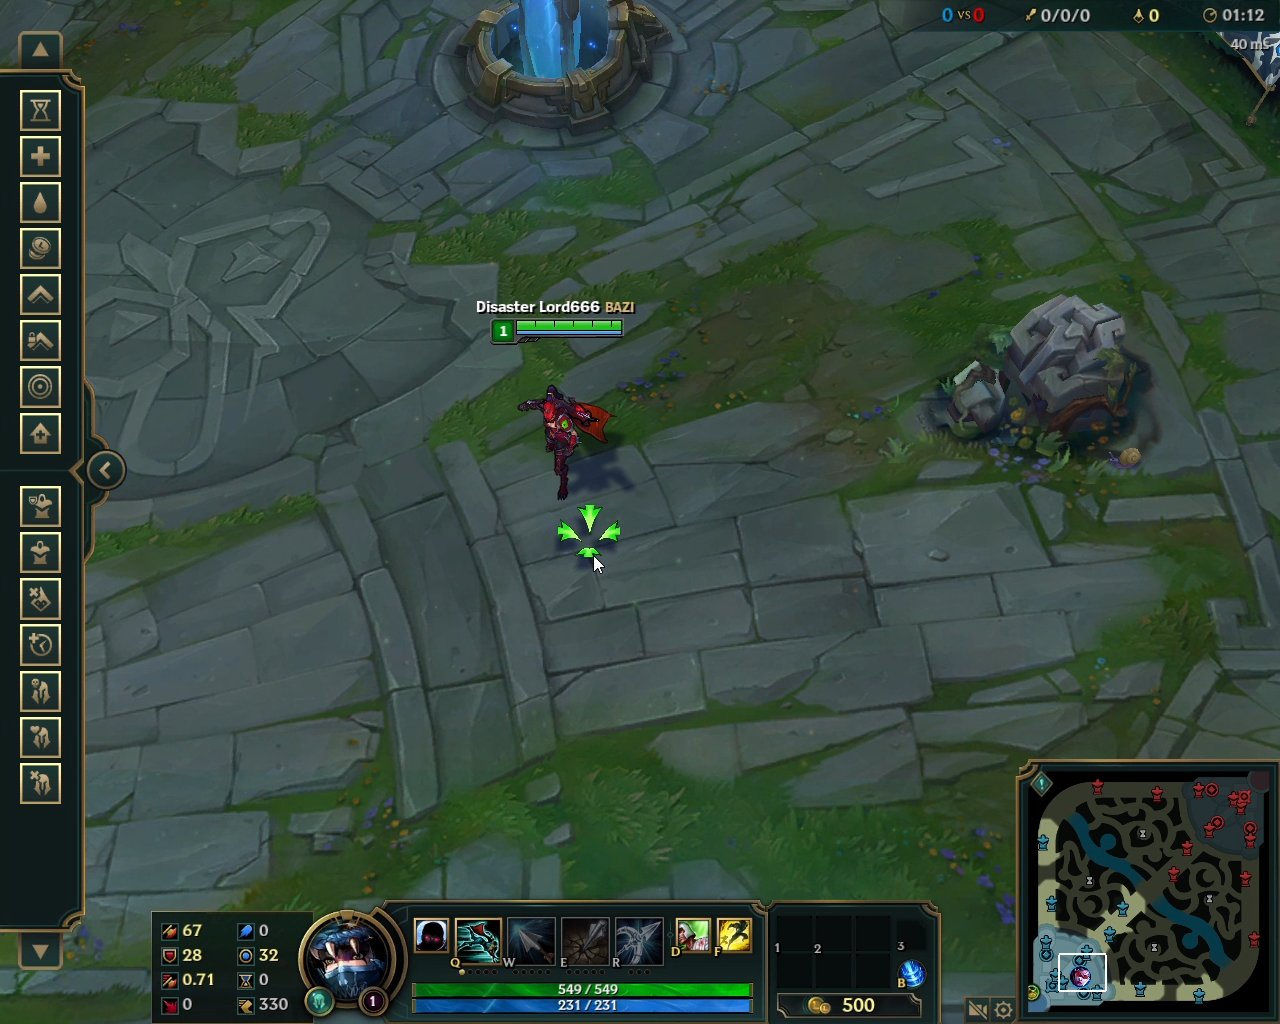Vayne: (511, 379, 621, 509)
